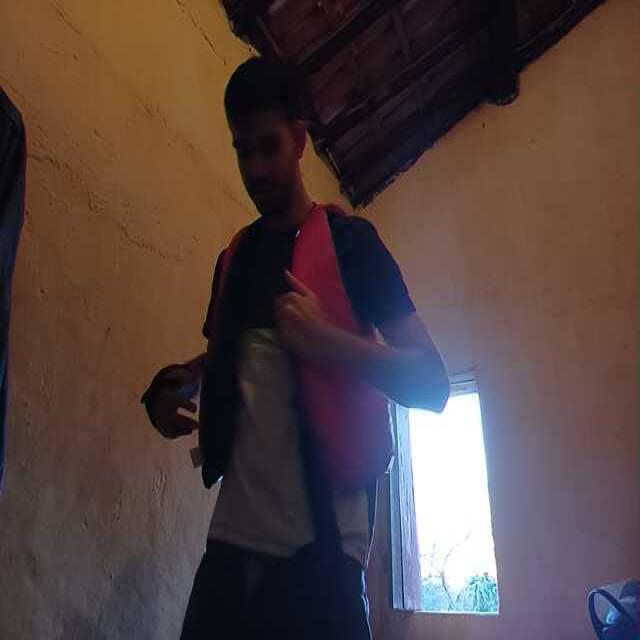colete: (203, 209, 396, 482)
pessoa: (142, 53, 449, 640)
